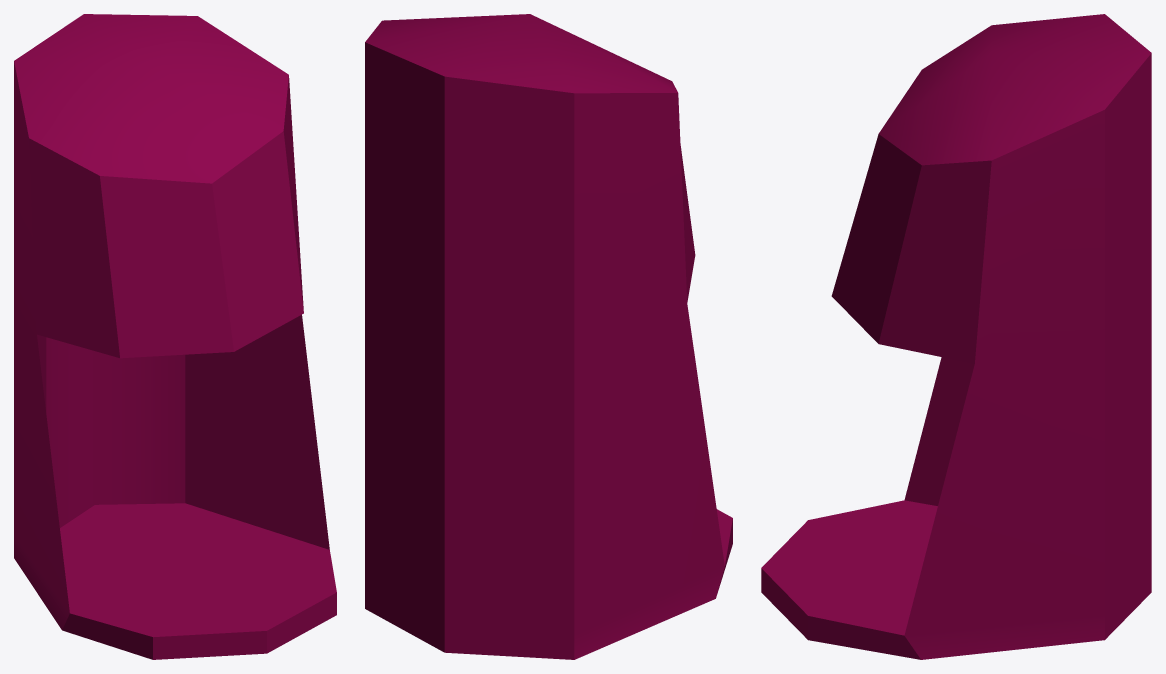
Rendered from coffeeMaker.fbx.
The picture shows the model from 3 angles, left to right: view 1: azimuth 30°, elevation 25°; view 2: azimuth 150°, elevation 25°; view 3: azimuth 270°, elevation 25°; orthographic projection. The views are drawn at different scales.
Visible parts, largest first — view 1: pCylinder1; view 2: pCylinder1; view 3: pCylinder1.
Part boxes in pixels (x1,y1,x2,y2): pCylinder1: (14,14,336,659); pCylinder1: (365,14,732,659); pCylinder1: (761,14,1151,659).
Size of the model in its own units: 37.3 by 69.34 by 45.5.
